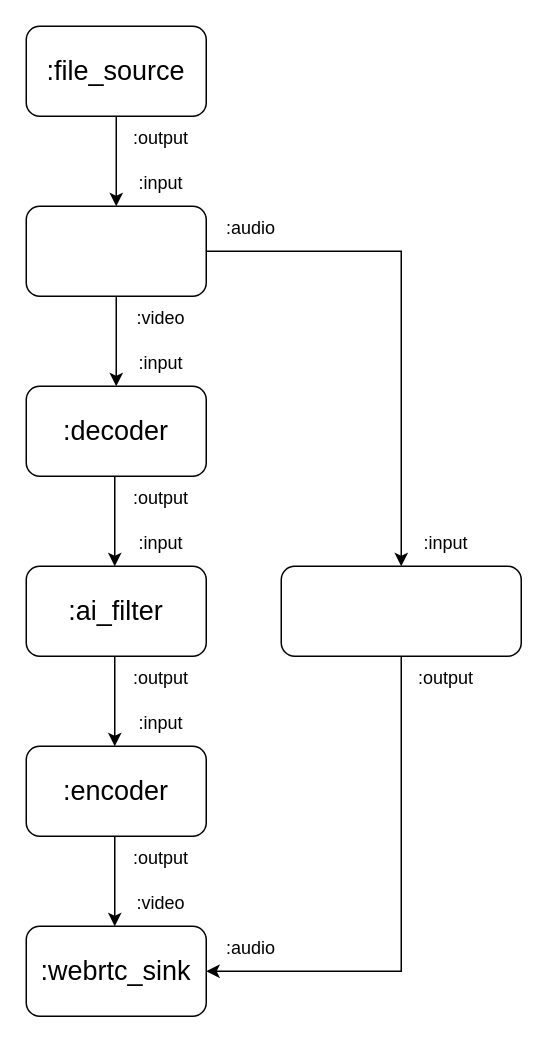
Image size: 548x1043. Some labels were removed from this diagram. Each missing label, with the box of its shape:
:demuxer: (25, 205, 206, 296)
:scratch_remover: (280, 565, 521, 656)
